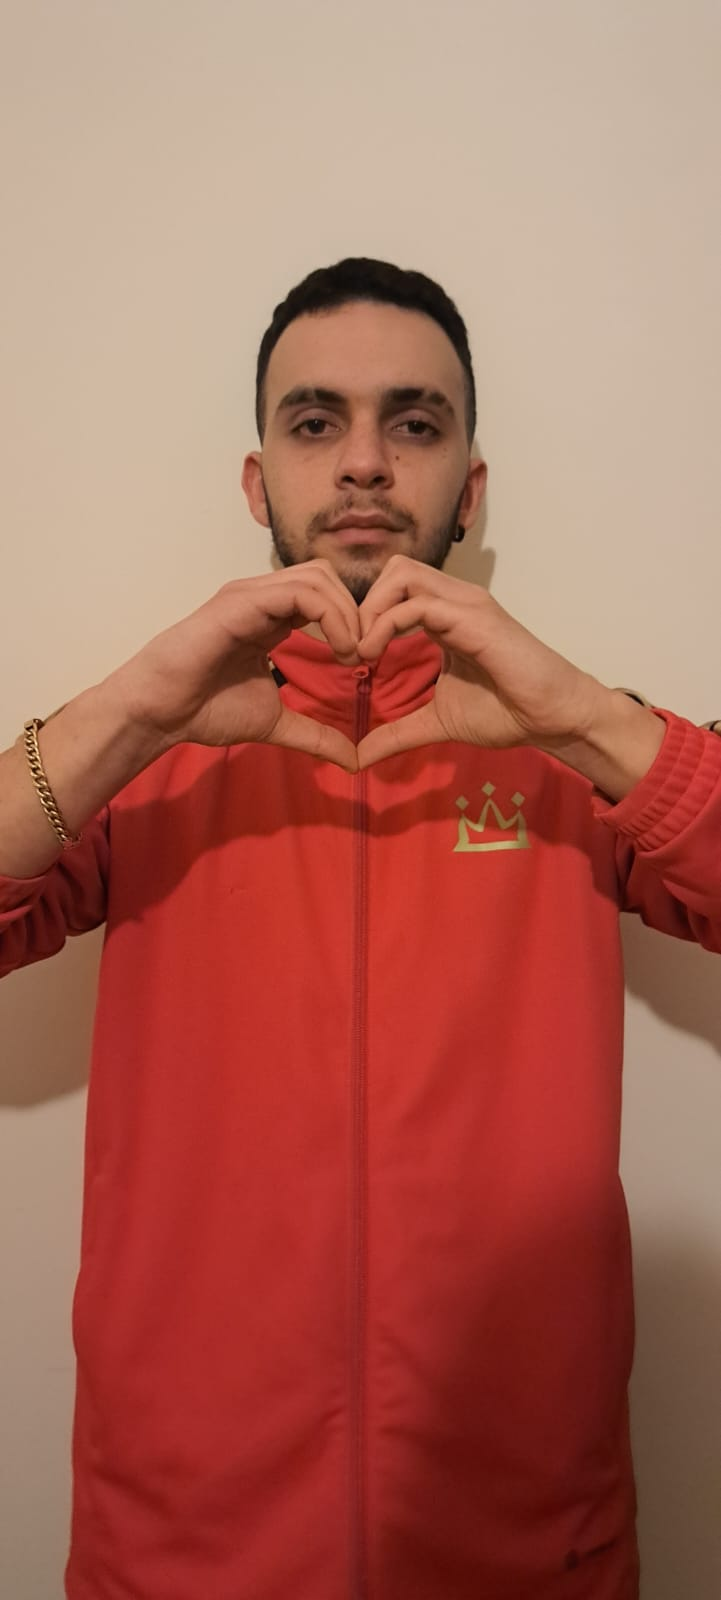cuore: (139, 549, 594, 795)
